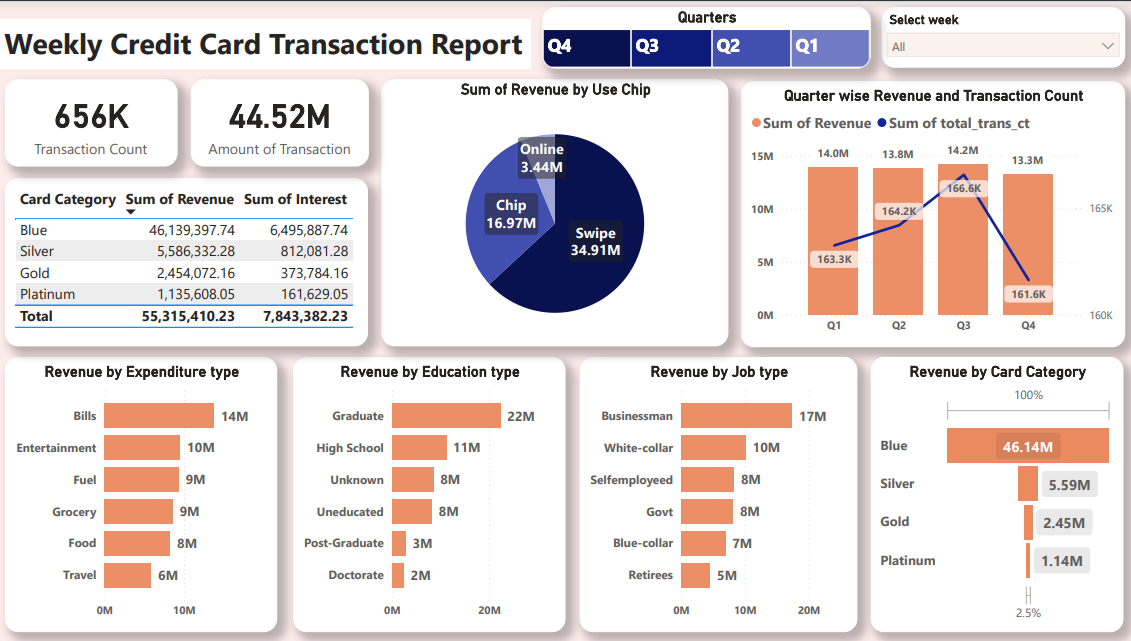

What the dashboard file says about the page in this screenshot:
{"tool":"powerbi","page":{"name":"Credit card transaction","canvas":[1280,720],"ordinal":0},"visuals":[{"type":"textbox","box":[0,15.7,601.4,55.7],"z":0},{"type":"lineStackedColumnComboChart","title":"Quarter wise Revenue and Transaction Count","fields":{"Category":["public cc_detail.qtr"],"Y":["Sum(public cc_detail.Revenue)"],"Y2":["Sum(public cc_detail.total_trans_ct)"]},"box":[836.8,85.7,431.7,298.6],"z":1000},{"type":"clusteredBarChart","title":"Revenue by Expenditure type","fields":{"Category":["public cc_detail.exp_type"],"Y":["Sum(public cc_detail.Revenue)"]},"box":[10.3,396.2,306,309],"z":2000},{"type":"clusteredBarChart","title":"Revenue by Education type","fields":{"Y":["Sum(public cc_detail.Revenue)"],"Category":["public cust_detail.education_level"]},"box":[334.1,396.2,306,309],"z":3000},{"type":"clusteredBarChart","title":"Revenue by Job type","fields":{"Y":["Sum(public cc_detail.Revenue)"],"Category":["public cust_detail.customer_job"]},"box":[656.4,396.2,311.9,309],"z":4000},{"type":"funnel","title":"Revenue by Card Category","fields":{"Category":["public cc_detail.card_category"],"Y":["Sum(public cc_detail.Revenue)"]},"box":[983.1,396.2,283.9,309],"z":5000},{"type":"pieChart","title":"Sum of Revenue by Use Chip","fields":{"Y":["Sum(public cc_detail.Revenue)"],"Category":["public cc_detail.use_chip"]},"box":[433.2,84.3,390.3,300.1],"z":6000},{"type":"tableEx","fields":{"Values":["public cc_detail.card_category","Sum(public cc_detail.Revenue)","Sum(public cc_detail.interest_earned)"]},"box":[10.3,195.1,408,189.2],"z":7000},{"type":"card","fields":{"Values":["Sum(public cc_detail.total_trans_ct)"]},"box":[10.3,84.3,193.7,97.6],"z":8000},{"type":"card","fields":{"Values":["Sum(public cc_detail.total_trans_amt)"]},"box":[218.8,84.3,199.6,97.6],"z":9000},{"type":"slicer","fields":{"Values":["public cc_detail.week_start_date"]},"box":[995,3,273.5,68],"z":10000},{"type":"treemap","title":"Quarters","fields":{"Group":["public cc_detail.qtr"],"Values":["Avg(public cc_detail.client_num)"]},"box":[614.3,2.9,368.6,68.6],"z":11000}]}

Visuals, with their boxes in screenshot pixels (x1, y1, x2, y2), scaled from the page's 1280x720 canvas onto the 1131x641 screenshot:
textbox: [left=0, top=14, right=531, bottom=64]
"Quarter wise Revenue and Transaction Count" lineStackedColumnComboChart: [left=739, top=76, right=1121, bottom=342]
"Revenue by Expenditure type" clusteredBarChart: [left=9, top=353, right=279, bottom=628]
"Revenue by Education type" clusteredBarChart: [left=295, top=353, right=566, bottom=628]
"Revenue by Job type" clusteredBarChart: [left=580, top=353, right=856, bottom=628]
"Revenue by Card Category" funnel: [left=869, top=353, right=1120, bottom=628]
"Sum of Revenue by Use Chip" pieChart: [left=383, top=75, right=728, bottom=342]
tableEx - public cc_detail.card_category x Sum(public cc_detail.Revenue): [left=9, top=174, right=370, bottom=342]
card - Sum(public cc_detail.total_trans_ct): [left=9, top=75, right=180, bottom=162]
card - Sum(public cc_detail.total_trans_amt): [left=193, top=75, right=370, bottom=162]
slicer - public cc_detail.week_start_date: [left=879, top=3, right=1121, bottom=63]
"Quarters" treemap: [left=543, top=3, right=868, bottom=64]
